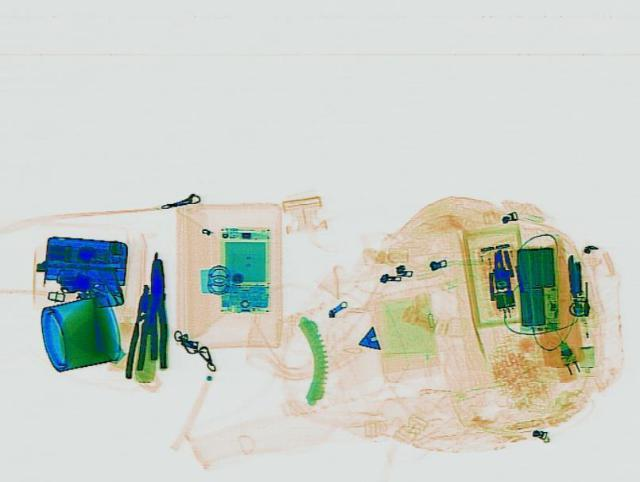Pliers: (148, 256, 166, 369)
